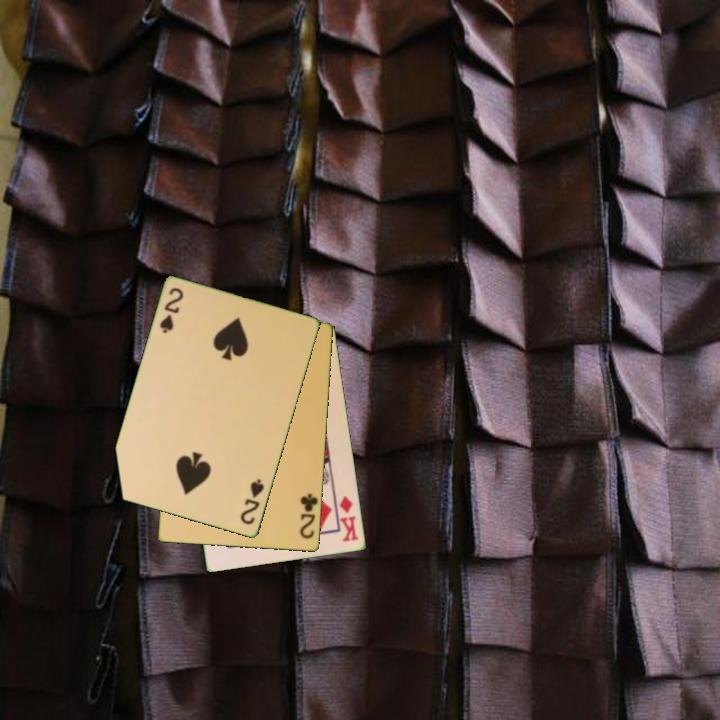2c: (297, 490, 321, 542)
2s: (156, 284, 187, 337), (237, 476, 267, 528)
Kd: (332, 491, 361, 545)
